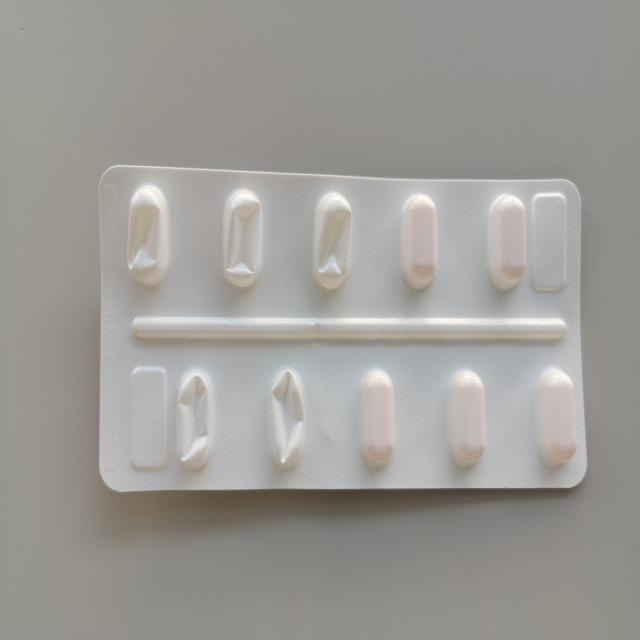Empty: (119, 178, 175, 292), (170, 362, 220, 476), (264, 362, 312, 477), (216, 185, 267, 293), (308, 188, 358, 298)
Pill: (441, 361, 490, 474), (394, 187, 442, 298), (530, 360, 576, 473), (354, 365, 401, 474), (484, 188, 531, 295)
